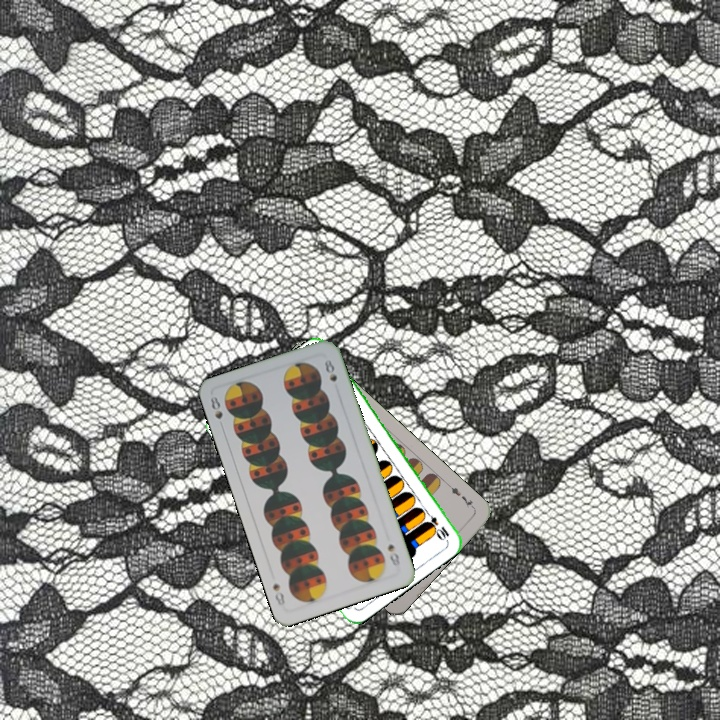E10: (420, 506, 452, 542)
E7: (444, 480, 477, 511)
S8: (206, 392, 227, 432), (383, 539, 403, 568)
